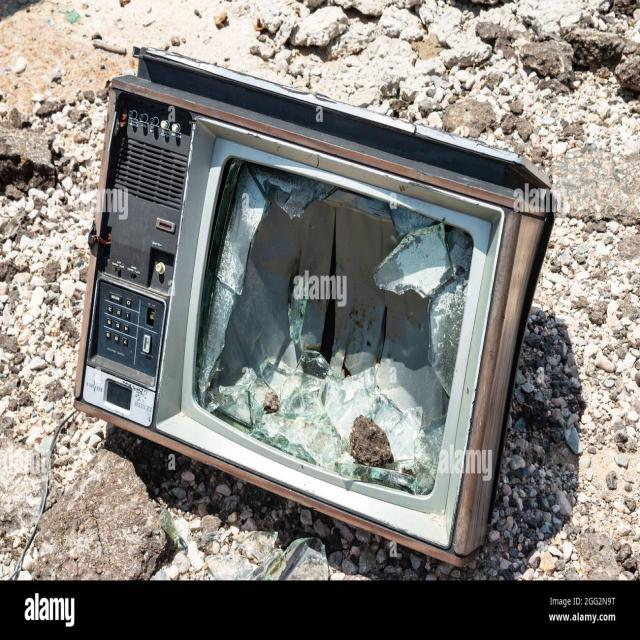electronics: (75, 49, 553, 563)
